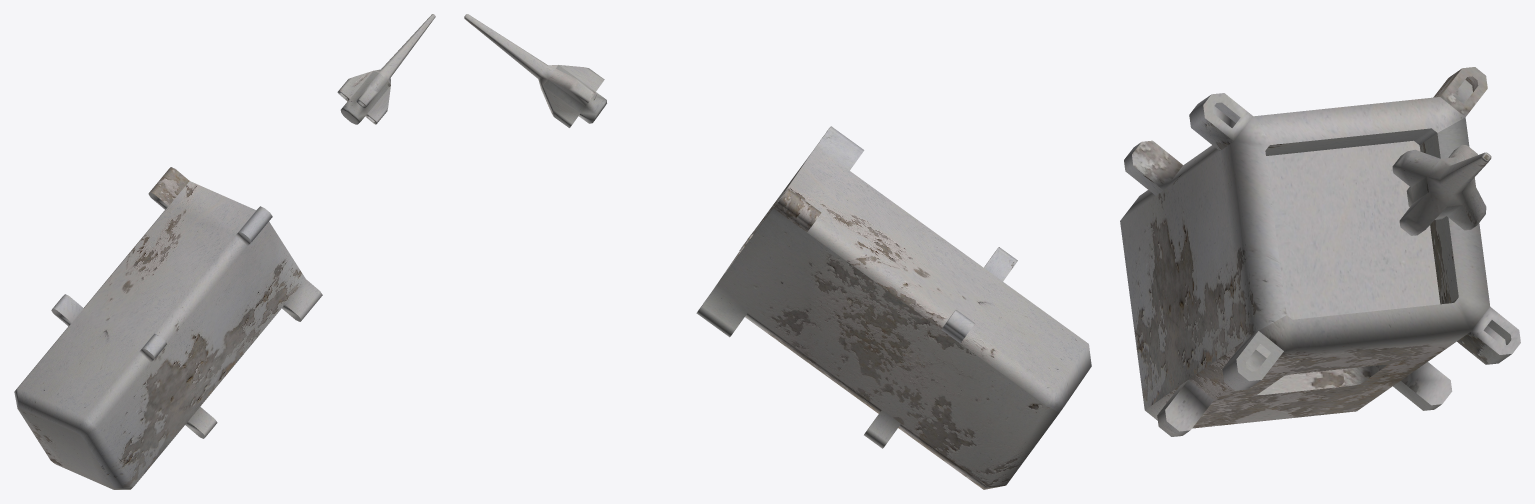
3 views of the same model, side by side, from view 1: azimuth 30°, elevation 25°; view 2: azimuth 150°, elevation 25°; view 3: azimuth 270°, elevation 25° (orthographic). The views are drawn at different scales.
Visible parts, largest first — view 1: 6.006; view 2: 6.006; view 3: 6.006.
Boxes of the visible parts, bbox=[...] form: 6.006: bbox=[14, 14, 435, 489]; 6.006: bbox=[464, 14, 1091, 489]; 6.006: bbox=[1120, 67, 1520, 436].
Bounding box in the file's own units: 446 × 302 × 169.
